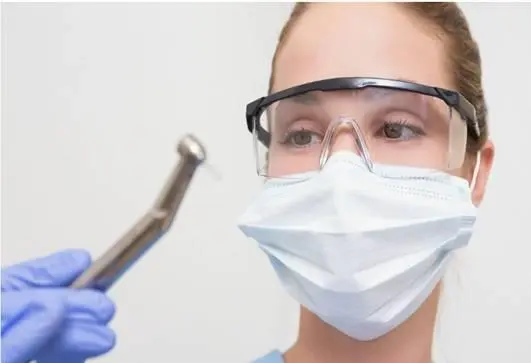withmask: (245, 1, 504, 346)
